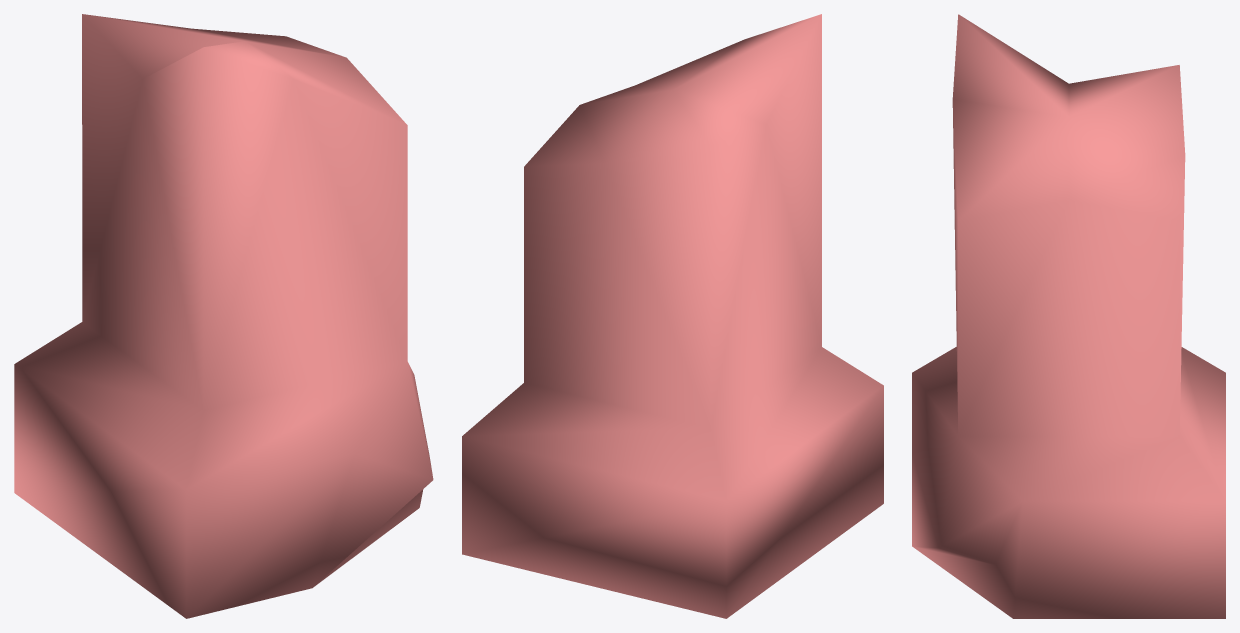
The model's file is skruins_pillar07.gltf.
3 renders of one model, left to right at view 1: azimuth 30°, elevation 25°; view 2: azimuth 150°, elevation 25°; view 3: azimuth 270°, elevation 25°, orthographic. The views are drawn at different scales.
Parts seen in each view (by area): view 1: skruins_pillar07; view 2: skruins_pillar07; view 3: skruins_pillar07.
Boxes of the visible parts, x1,y1,x2,y2 form: skruins_pillar07: (14, 14, 433, 618); skruins_pillar07: (462, 14, 883, 618); skruins_pillar07: (912, 14, 1225, 618).
Bounding box in the file's own units: 0.2635 × 0.4734 × 0.2717.
